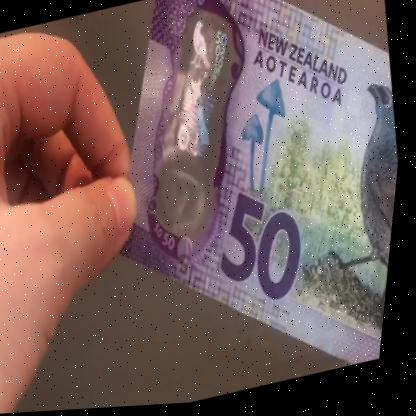50B: (120, 9, 261, 240)
